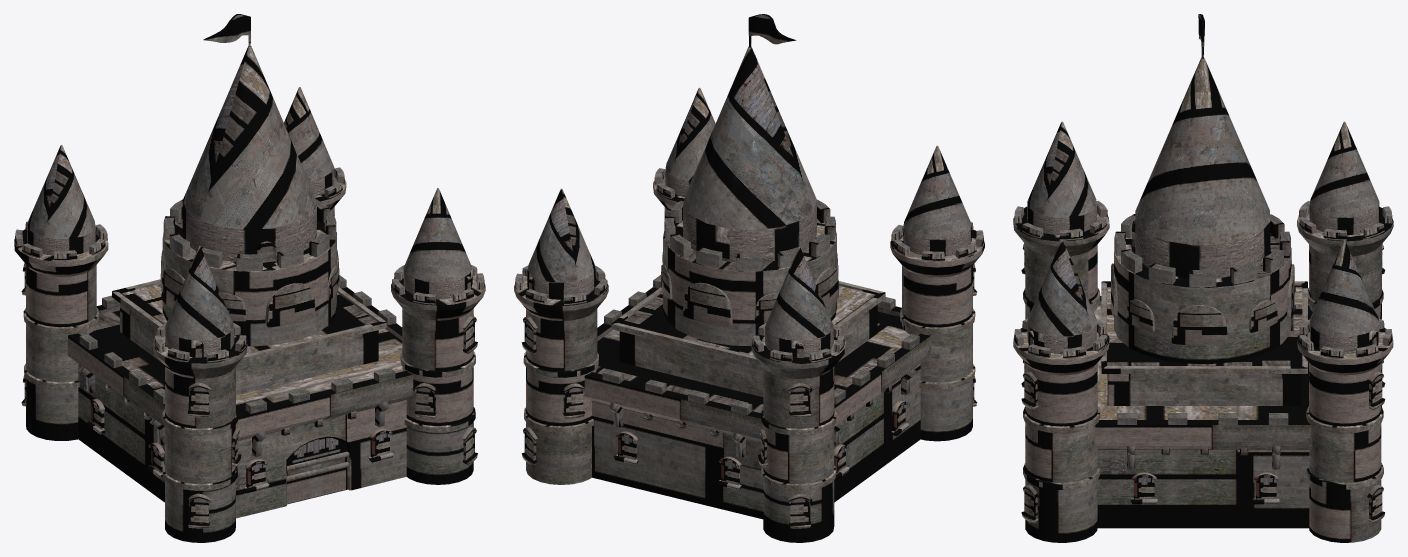
The model's file is Castle.obj.
3 views of the same model, side by side, from view 1: azimuth 30°, elevation 25°; view 2: azimuth 150°, elevation 25°; view 3: azimuth 270°, elevation 25° (orthographic). The views are drawn at different scales.
Visible parts, largest first — view 1: polySurface2.2_Mesh_0; view 2: polySurface2.2_Mesh_0; view 3: polySurface2.2_Mesh_0.
Boxes of the visible parts, x1,y1,x2,y2 form: polySurface2.2_Mesh_0: (14, 14, 485, 542); polySurface2.2_Mesh_0: (514, 14, 984, 542); polySurface2.2_Mesh_0: (1013, 14, 1393, 542).
Size of the model in its own units: 6.51 by 8.52 by 6.57.
